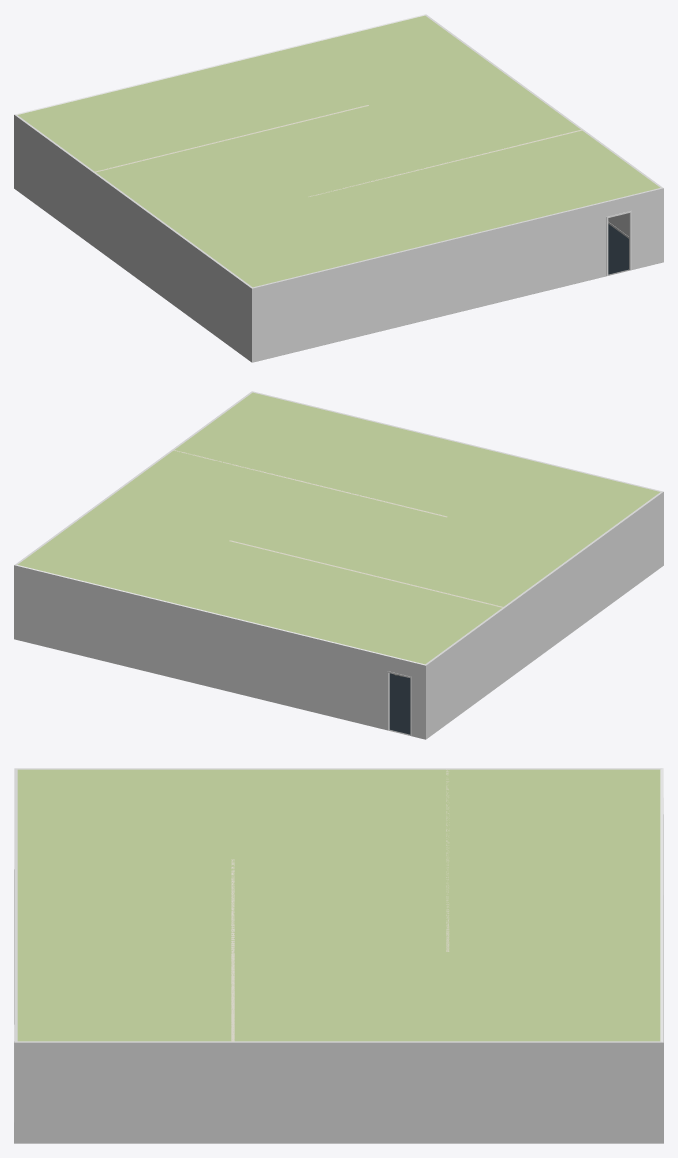
The model's file is Science Fair Setting.obj.
3 views of the same model, one above another, from view 1: azimuth 30°, elevation 25°; view 2: azimuth 150°, elevation 25°; view 3: azimuth 270°, elevation 25° (orthographic). The views are drawn at different scales.
Visible parts, largest first — view 1: room_7_43, wall_3_19, wall_4_26, room_7_42; view 2: room_7_43, wall_1_5, wall_4_26, room_7_42; view 3: room_7_43, wall_2_12, wall_2_14, wall_4_28, wall_2_15, wall_4_29, wall_1_7, wall_3_21.
Part boxes in pixels (bbox=[...]): room_7_43: bbox=[18, 15, 660, 287]; wall_3_19: bbox=[252, 188, 663, 362]; wall_4_26: bbox=[14, 115, 251, 362]; room_7_42: bbox=[608, 224, 628, 274]; room_7_43: bbox=[17, 392, 659, 664]; wall_1_5: bbox=[14, 565, 425, 739]; wall_4_26: bbox=[426, 492, 663, 739]; room_7_42: bbox=[389, 673, 410, 734]; room_7_43: bbox=[17, 769, 660, 1041]; wall_2_12: bbox=[14, 1042, 663, 1143]; wall_2_14: bbox=[15, 1042, 662, 1042]; wall_4_28: bbox=[15, 768, 662, 768]; wall_2_15: bbox=[16, 1041, 661, 1041]; wall_4_29: bbox=[16, 769, 661, 769]; wall_1_7: bbox=[662, 768, 663, 1042]; wall_3_21: bbox=[14, 768, 15, 1042].
Size of the model in its own units: 1515 by 260 by 1517.
53 materials, 3 textured.
